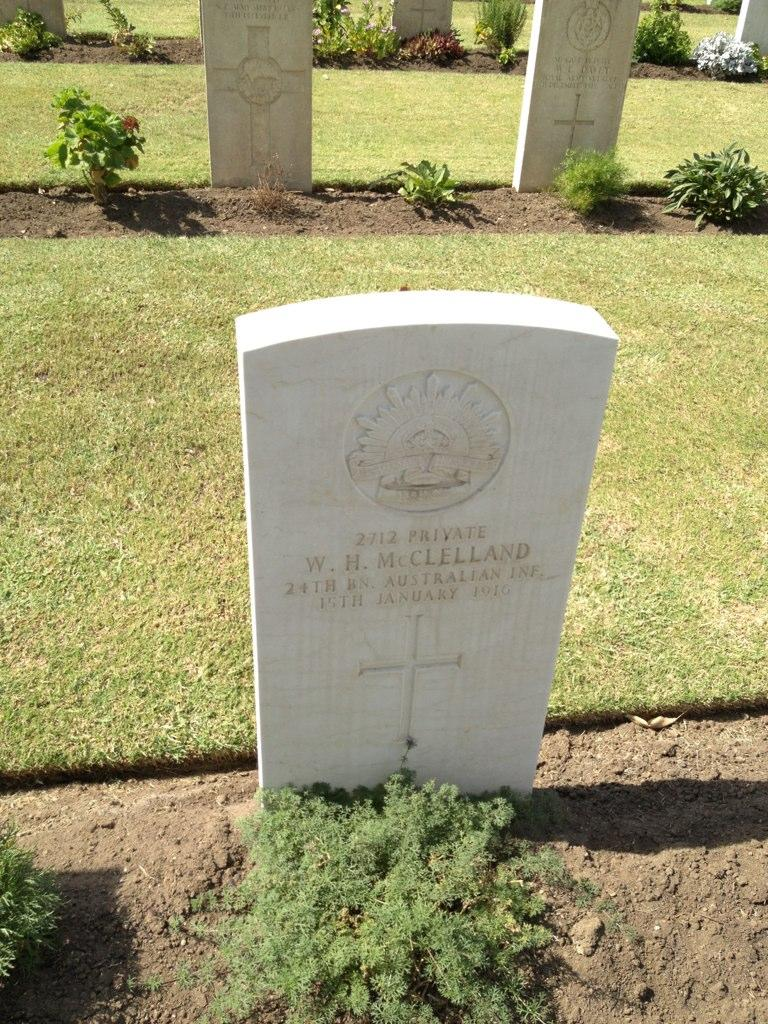military: (226, 269, 610, 809)
